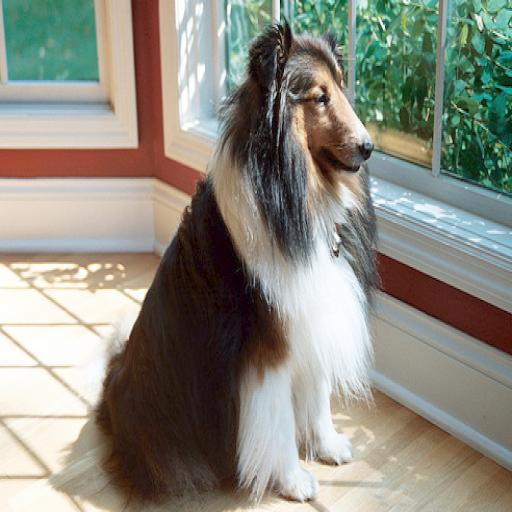dog_face: (242, 22, 381, 196)
